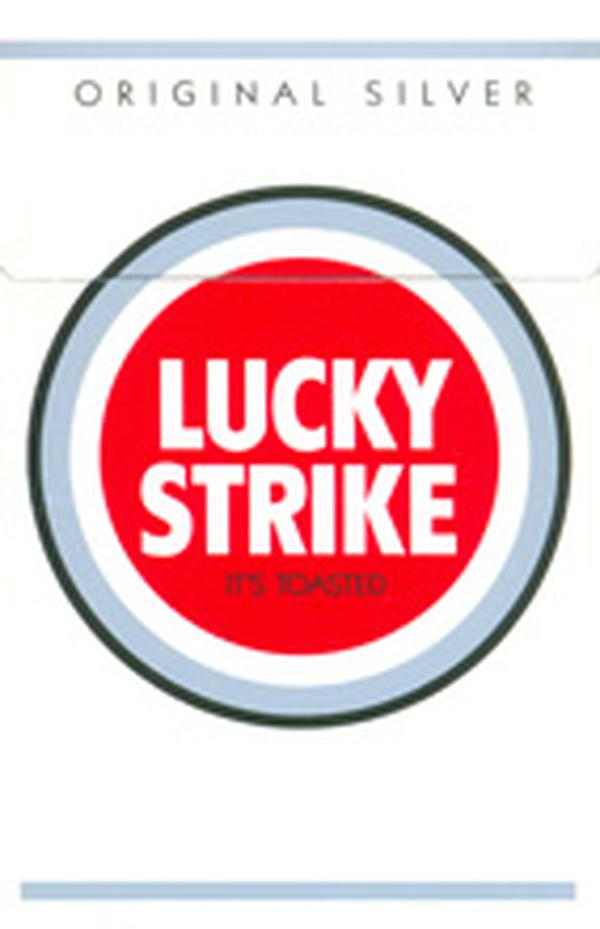lucky_strike_red: (4, 8, 594, 918)
